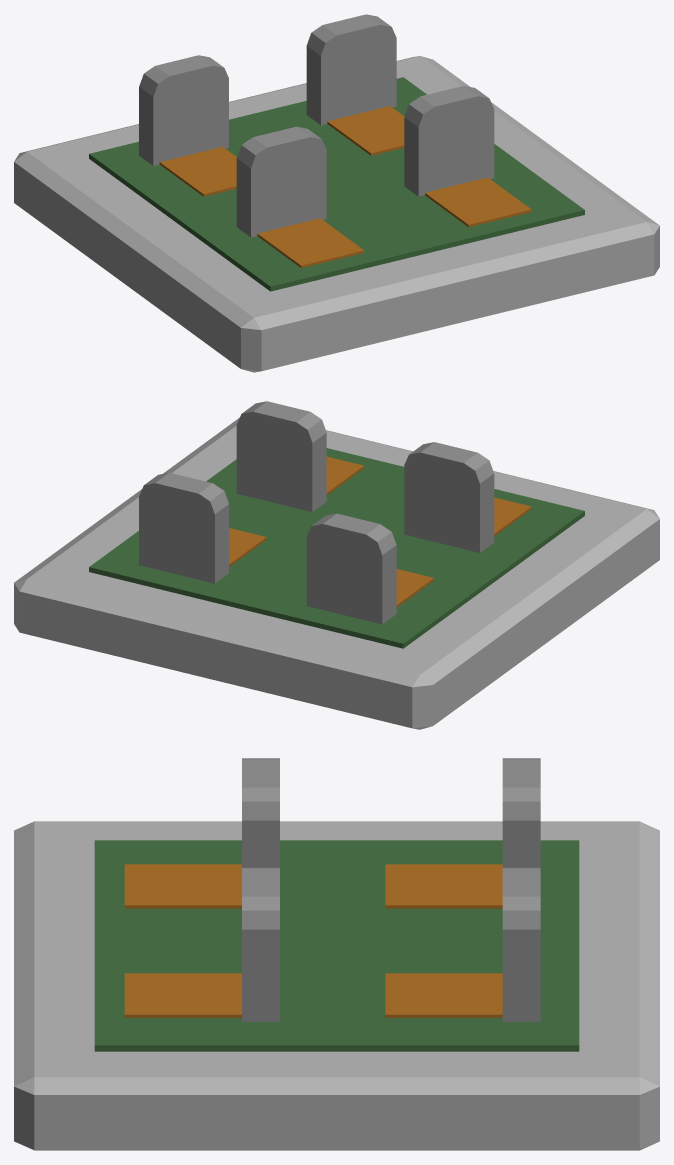
File: death_magican.fbx
The picture shows the model from 3 angles, top to bottom: view 1: azimuth 30°, elevation 25°; view 2: azimuth 150°, elevation 25°; view 3: azimuth 270°, elevation 25°; orthographic projection. The views are drawn at different scales.
Visible parts, largest first — view 1: Cube, Cube.098, Cube.099, Cube.097, Cube.100, Cube.058; view 2: Cube, Cube.098, Cube.099, Cube.097, Cube.100, Cube.058; view 3: Cube, Cube.098, Cube.058, Cube.100, Cube.097, Cube.099.
Boxes of the visible parts, box(x1,y1,x2,y2) form: Cube: box(14, 56, 659, 372); Cube.098: box(89, 77, 584, 291); Cube.099: box(236, 86, 494, 237); Cube.097: box(139, 14, 396, 165); Cube.100: box(257, 177, 531, 268); Cube.058: box(159, 106, 404, 196); Cube: box(14, 417, 659, 729); Cube.098: box(89, 448, 584, 648); Cube.099: box(236, 401, 494, 552); Cube.097: box(139, 472, 396, 624); Cube.100: box(326, 456, 531, 535); Cube.058: box(229, 528, 433, 607); Cube: box(14, 821, 659, 1150); Cube.098: box(94, 840, 579, 1051); Cube.058: box(385, 864, 502, 1017); Cube.100: box(124, 864, 241, 1017); Cube.097: box(502, 758, 540, 1021); Cube.099: box(242, 758, 279, 1021).
Bounding box in the file's own units: 400 × 133 × 400.
